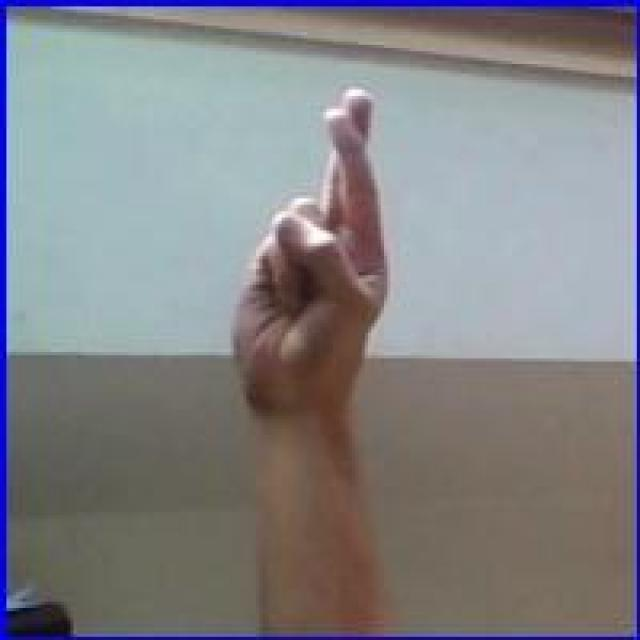R: (224, 79, 400, 418)
